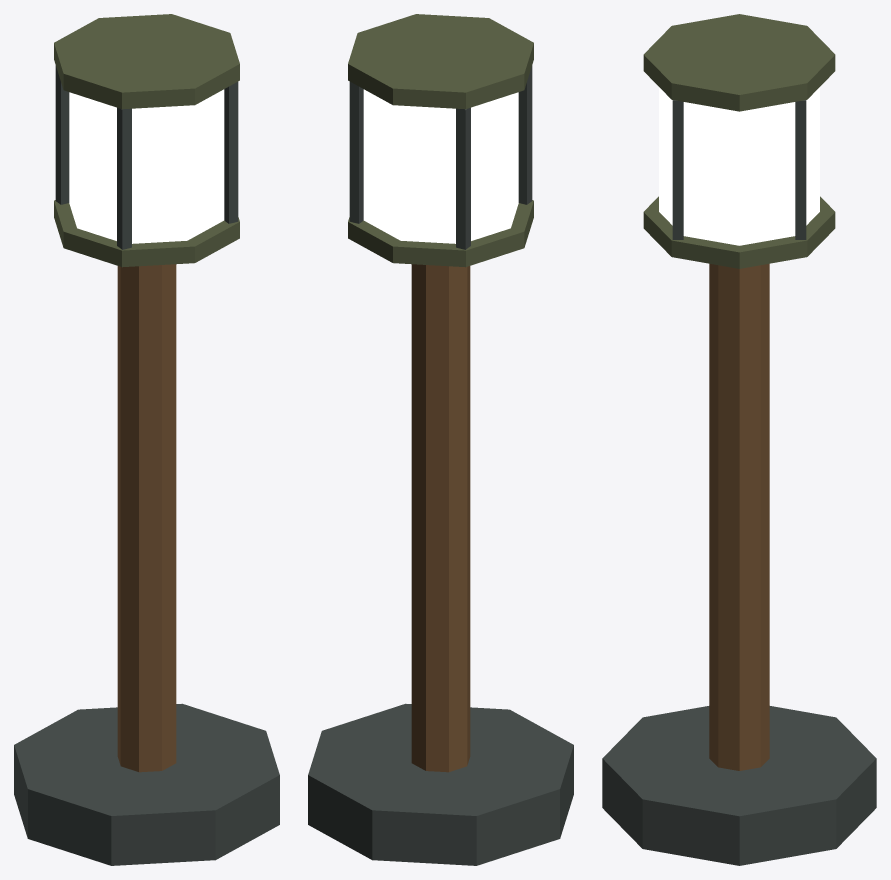
File: Lamp.gltf
3 renders of one model, left to right at view 1: azimuth 30°, elevation 25°; view 2: azimuth 150°, elevation 25°; view 3: azimuth 270°, elevation 25°, orthographic.
Visible parts, largest first — view 1: Lamp; view 2: Lamp; view 3: Lamp.
Part boxes in pixels (box(x1,y1,x2,y2)): Lamp: box(14, 14, 279, 865); Lamp: box(308, 14, 573, 865); Lamp: box(602, 14, 876, 865).
Bounding box in the file's own units: 0.3 × 0.91 × 0.3.
